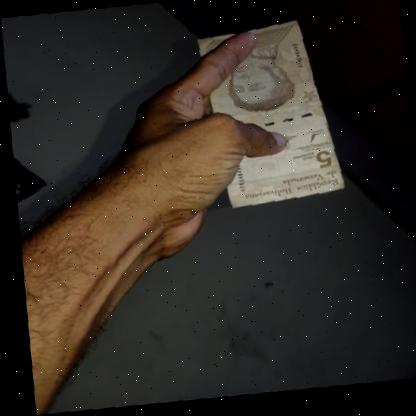five-front-vef: (195, 19, 343, 213)
